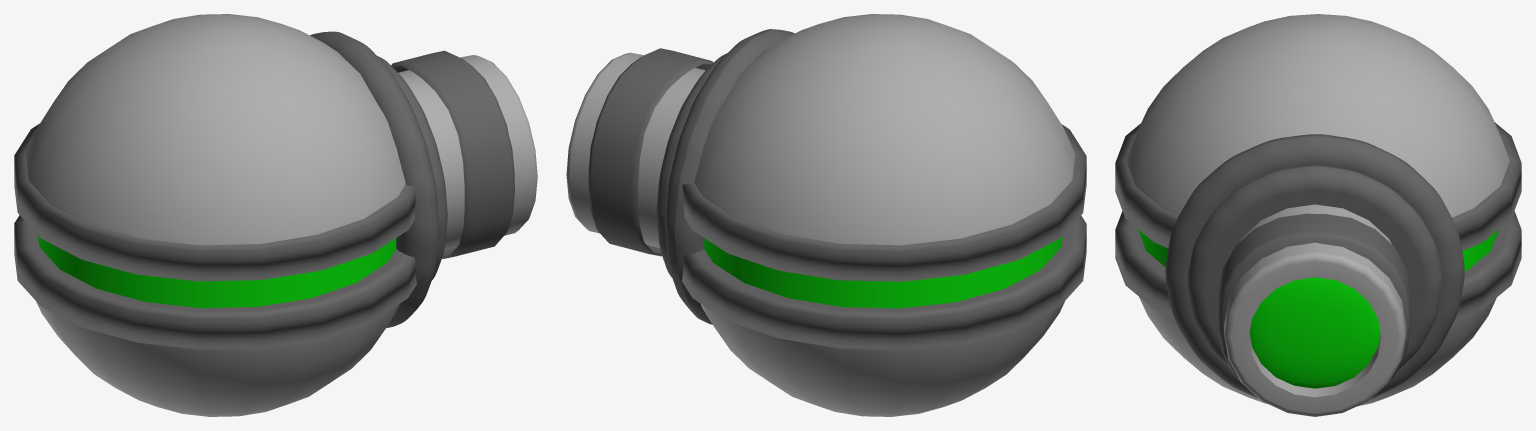
File: Robozinho voador.fbx
3 views of the same model, side by side, from view 1: azimuth 30°, elevation 25°; view 2: azimuth 150°, elevation 25°; view 3: azimuth 270°, elevation 25° (orthographic).
Parts seen in each view (by area): view 1: polySurface11; view 2: polySurface11; view 3: polySurface11.
Boxes of the visible parts, x1,y1,x2,y2 form: polySurface11: [14, 14, 537, 416]; polySurface11: [566, 14, 1086, 416]; polySurface11: [1115, 14, 1521, 416].
Size of the model in its own units: 17.15 by 13.25 by 13.57.
